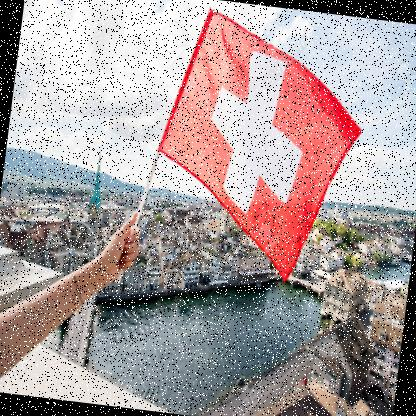ch: (141, 4, 375, 291)
